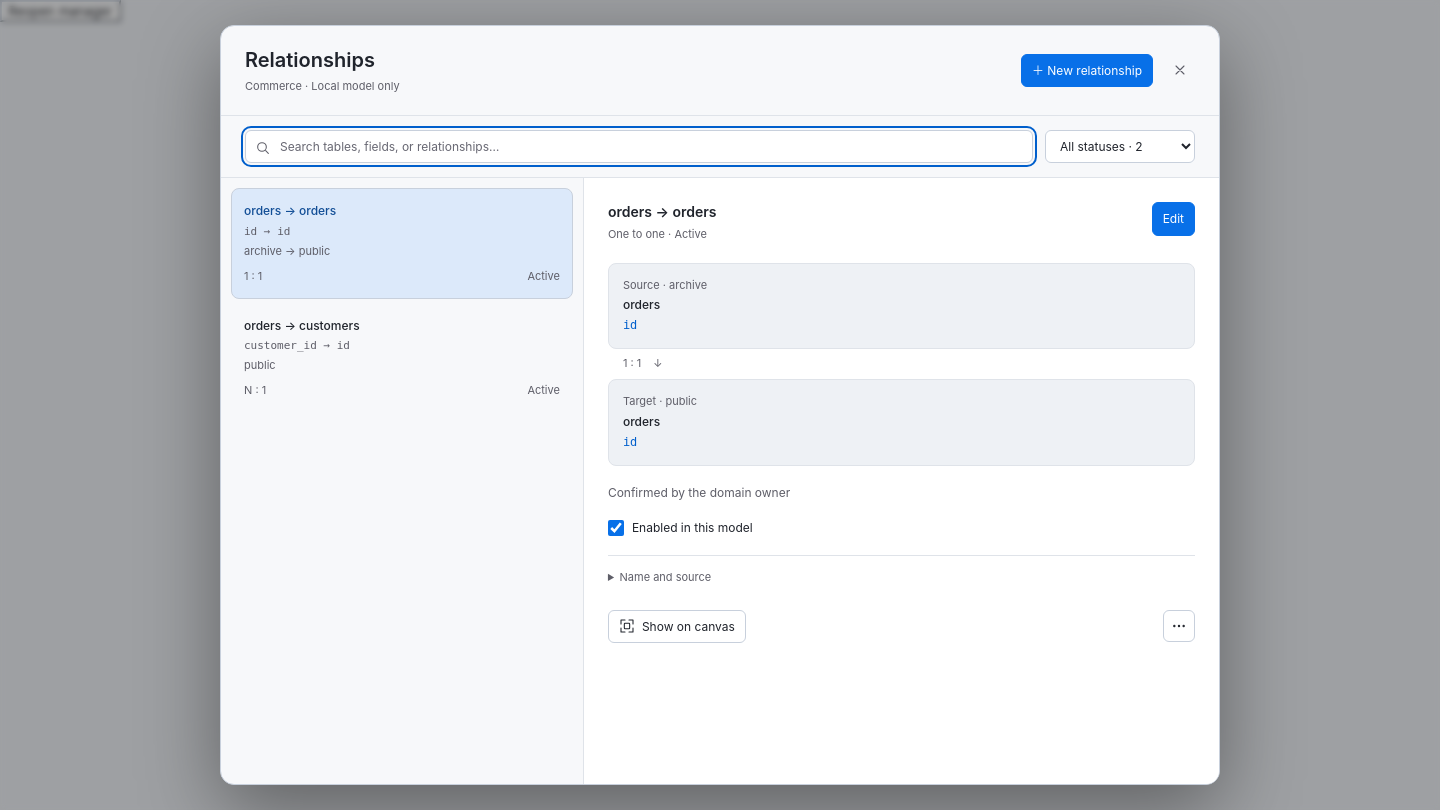
Test: RelationshipManager › keeps unsaved edits until discard is explicitly chosen
Click the button "Edit" at [1173, 219], box x1=1152 y1=202 x2=1195 y2=236
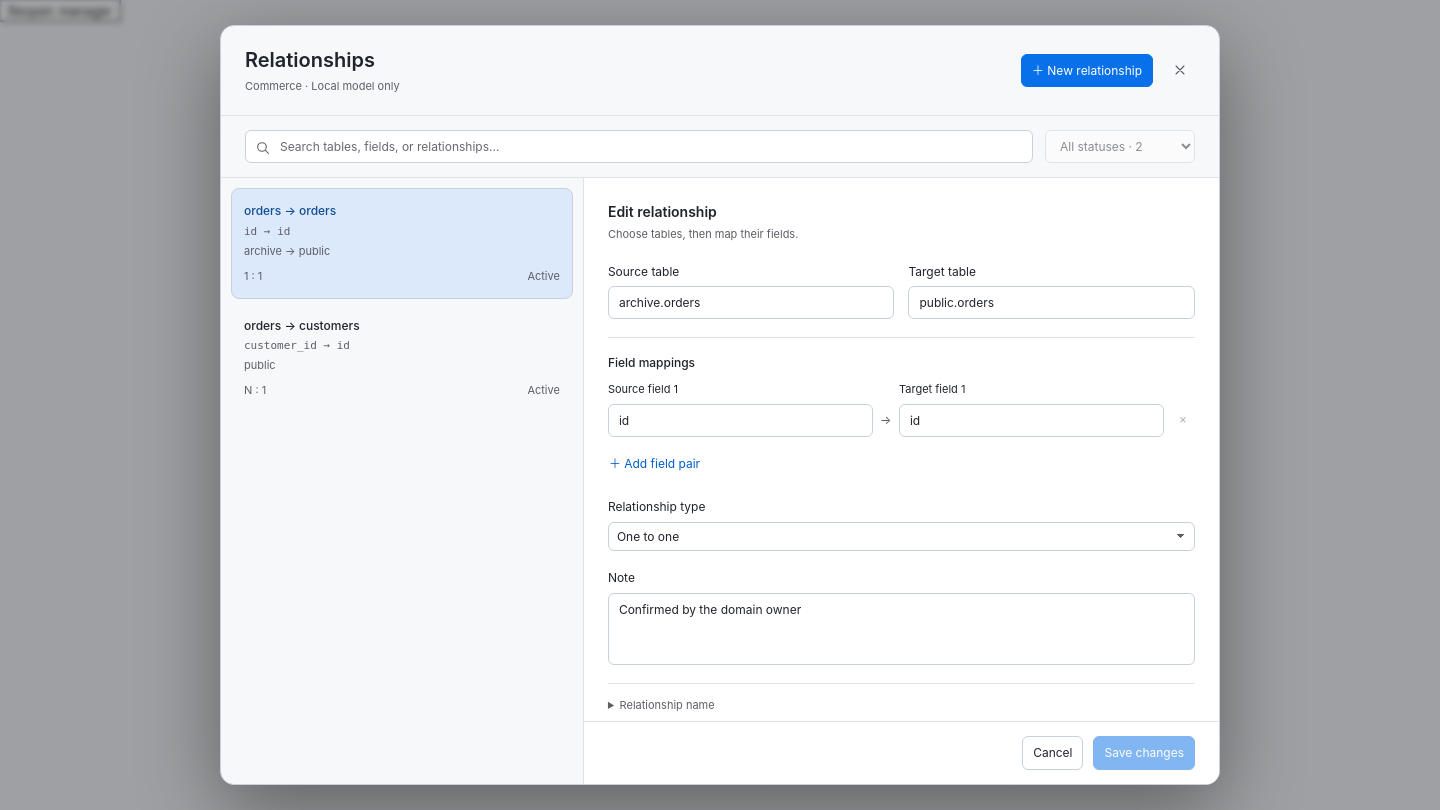
Replace the text in the text box labelled "Note" with "Unsaved note" at [901, 629], box x1=608 y1=593 x2=1195 y2=665
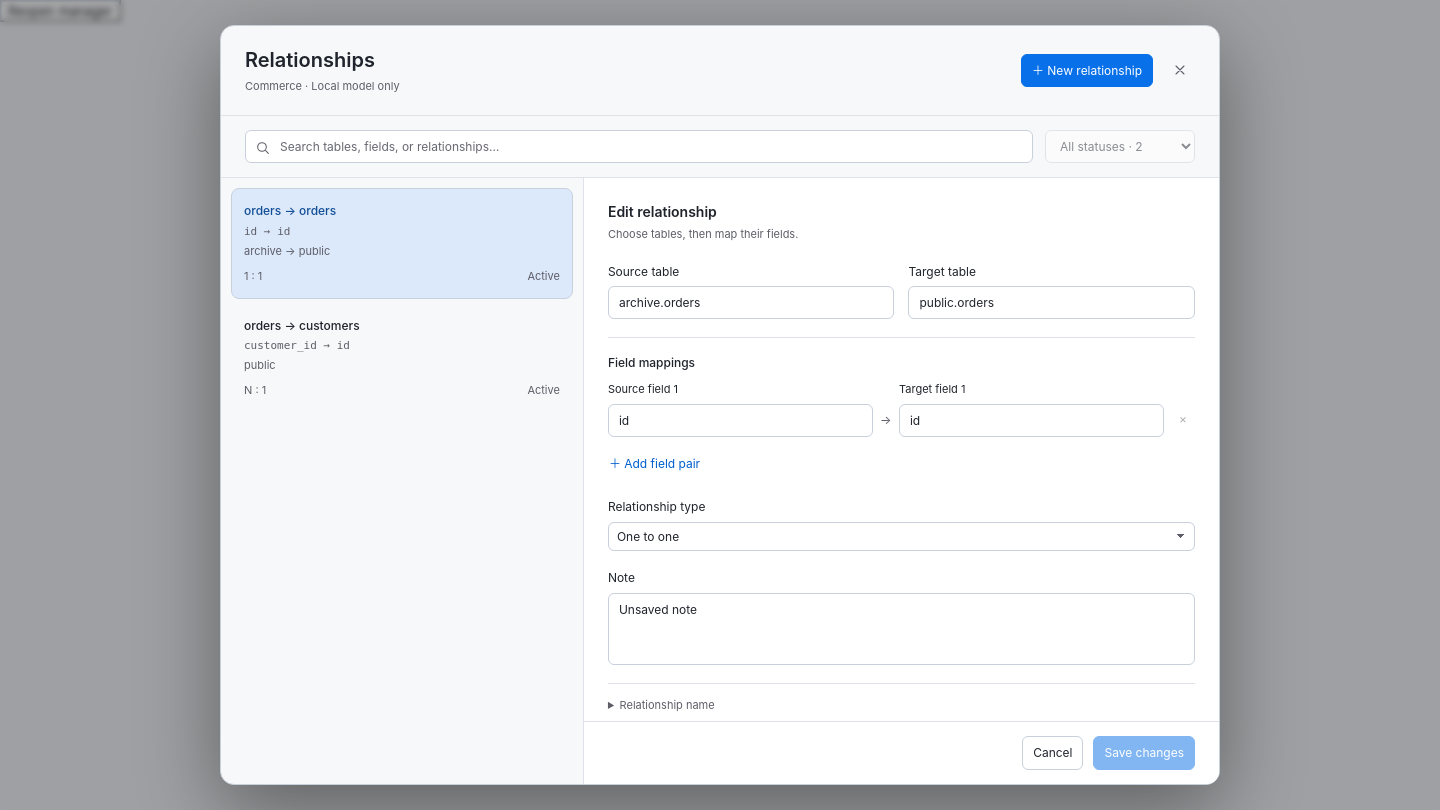
Click the button "Cancel" at [1053, 753], box x1=1022 y1=737 x2=1084 y2=770
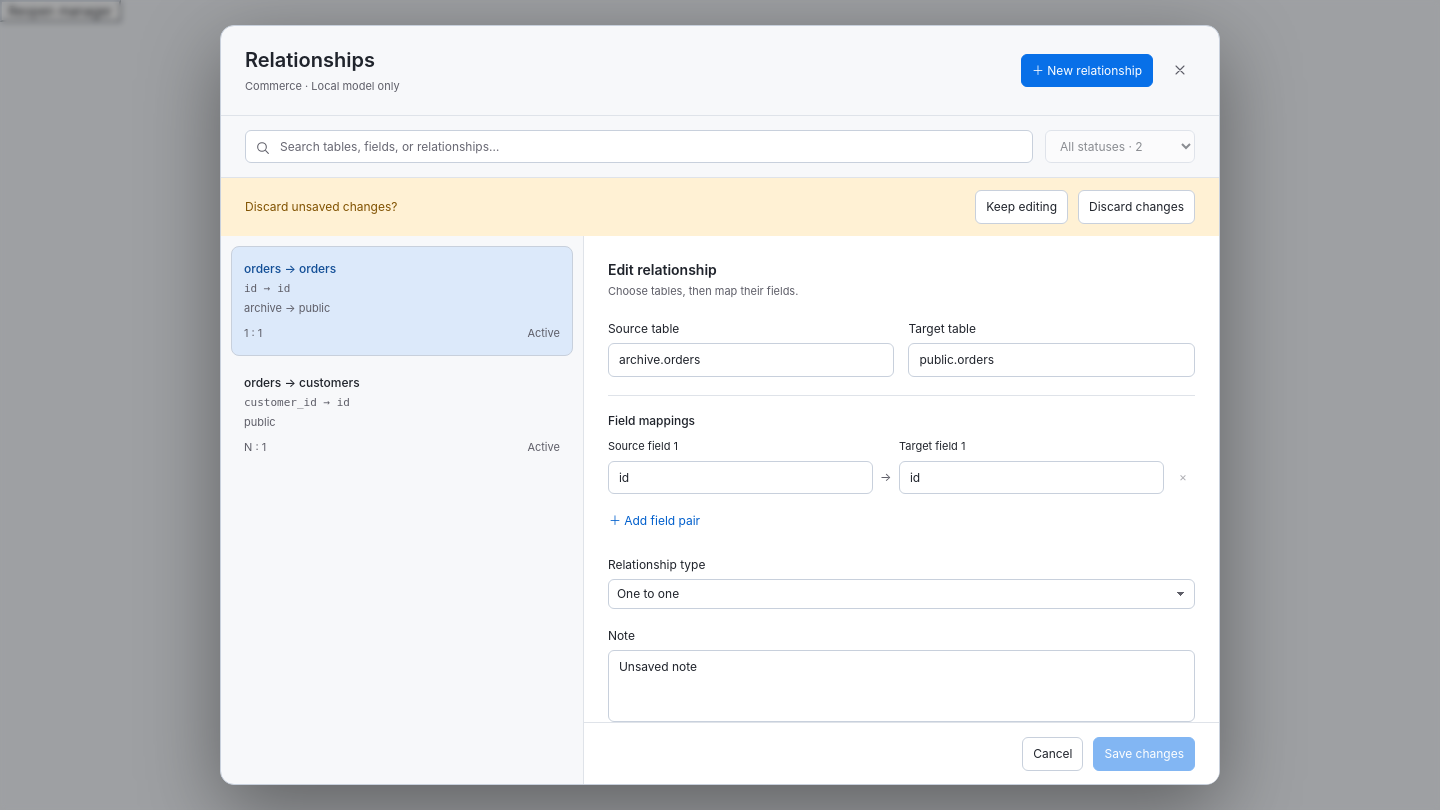
Check: the message shows "Discard unsaved changes?", box x1=245 y1=199 x2=397 y2=214
Click the button "Keep editing" at [1022, 207], box x1=975 y1=190 x2=1068 y2=224
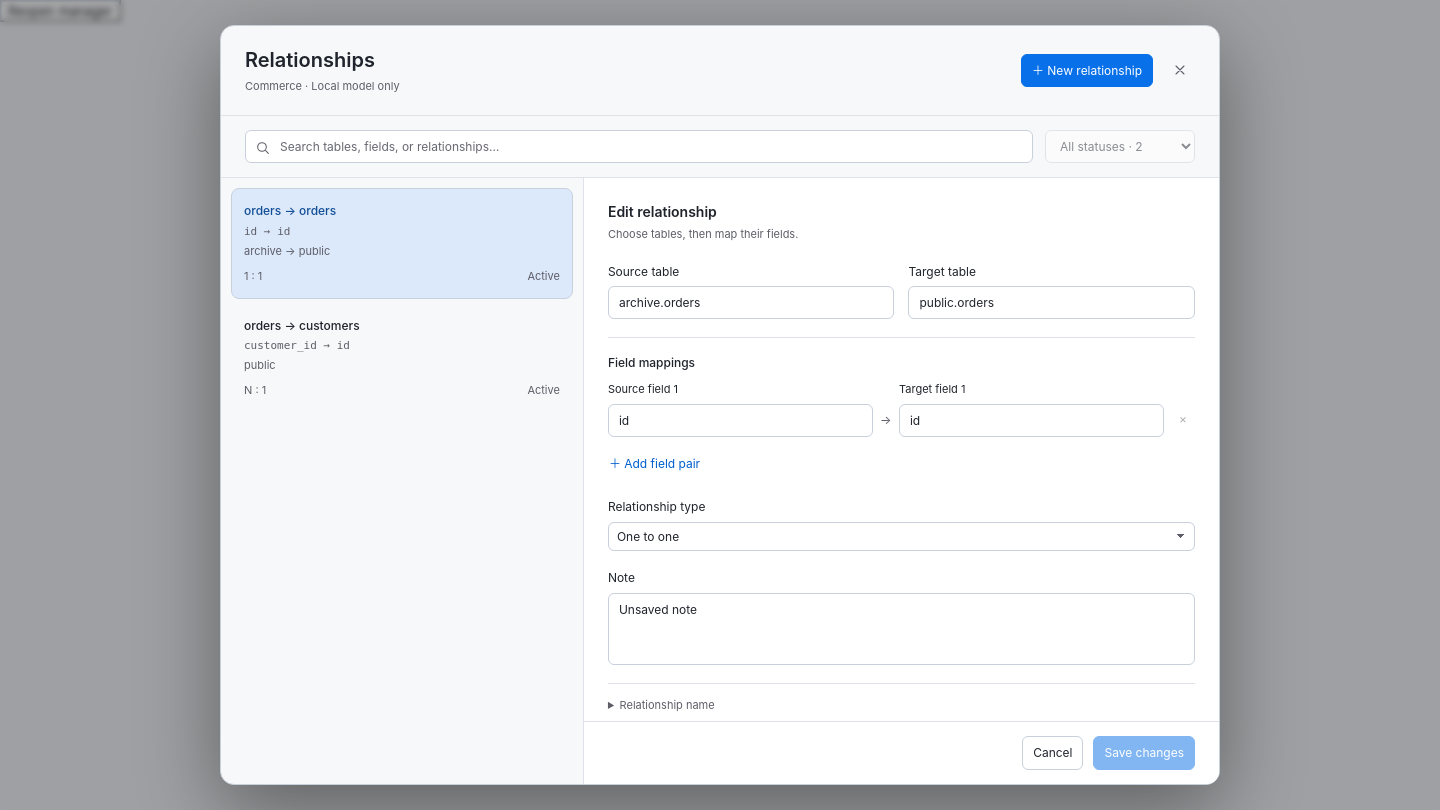
Click the button named "Close relationships" at [1180, 70], box x1=1165 y1=56 x2=1195 y2=86
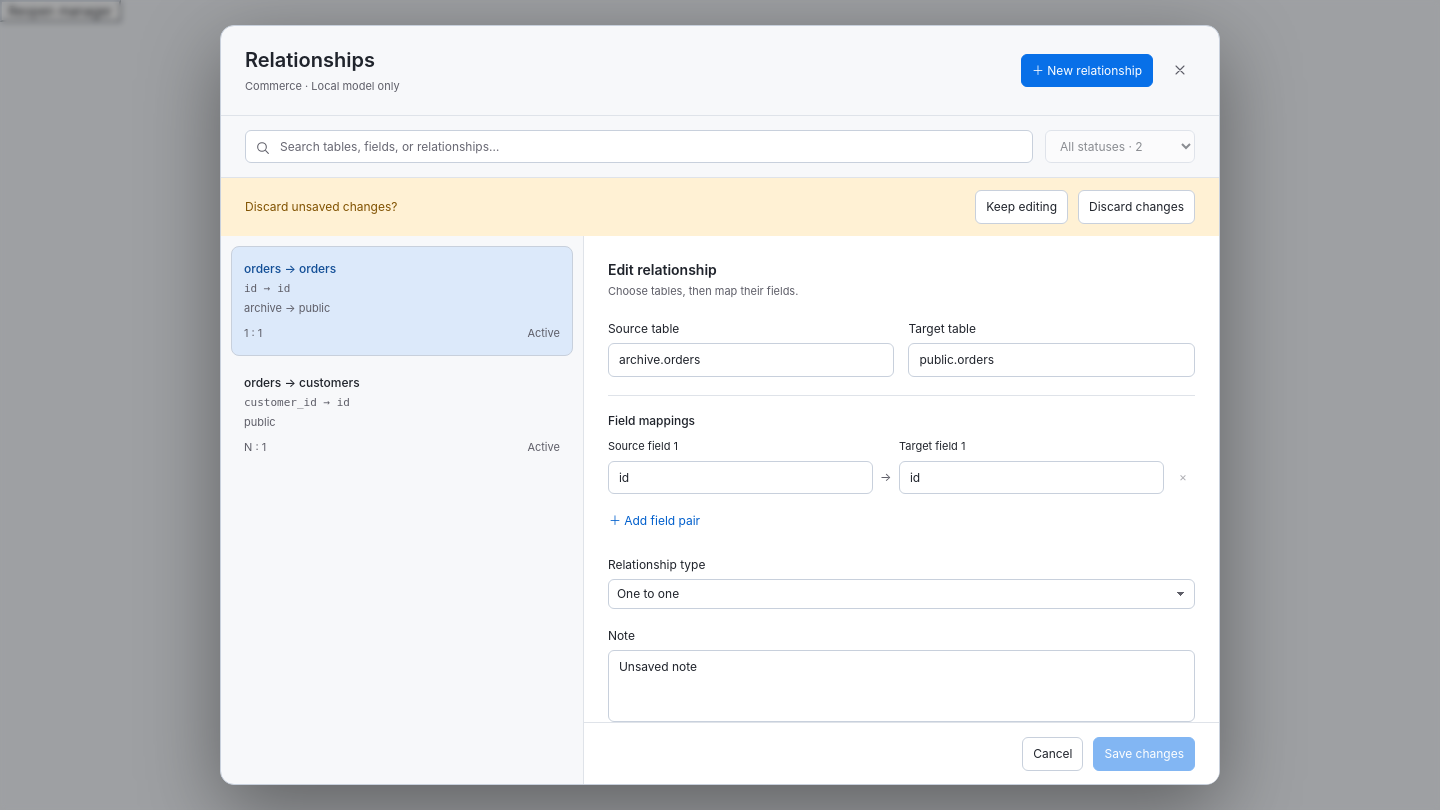
Click the button "Discard changes" at [1136, 207], box x1=1078 y1=190 x2=1195 y2=224
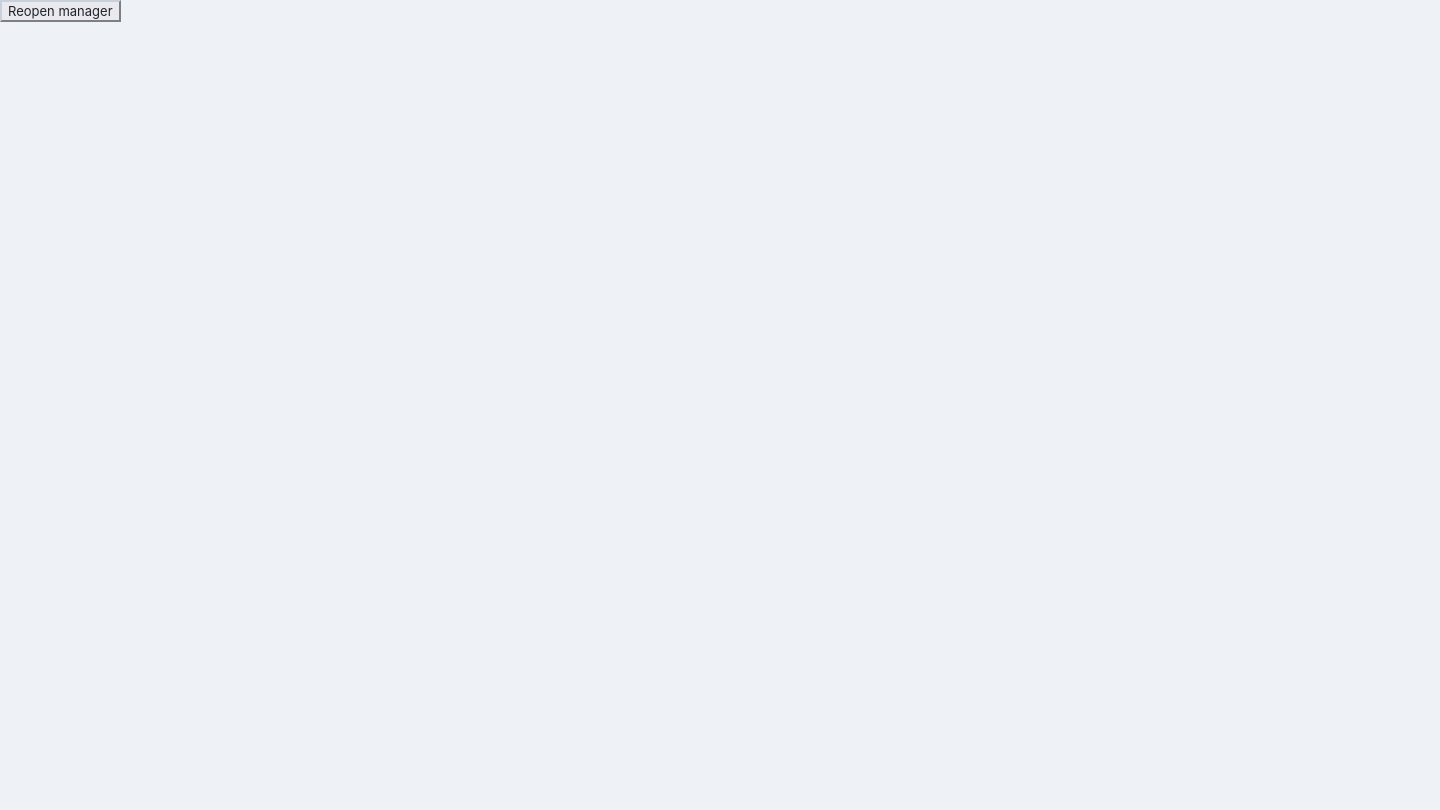
Check: the dialog is gone
